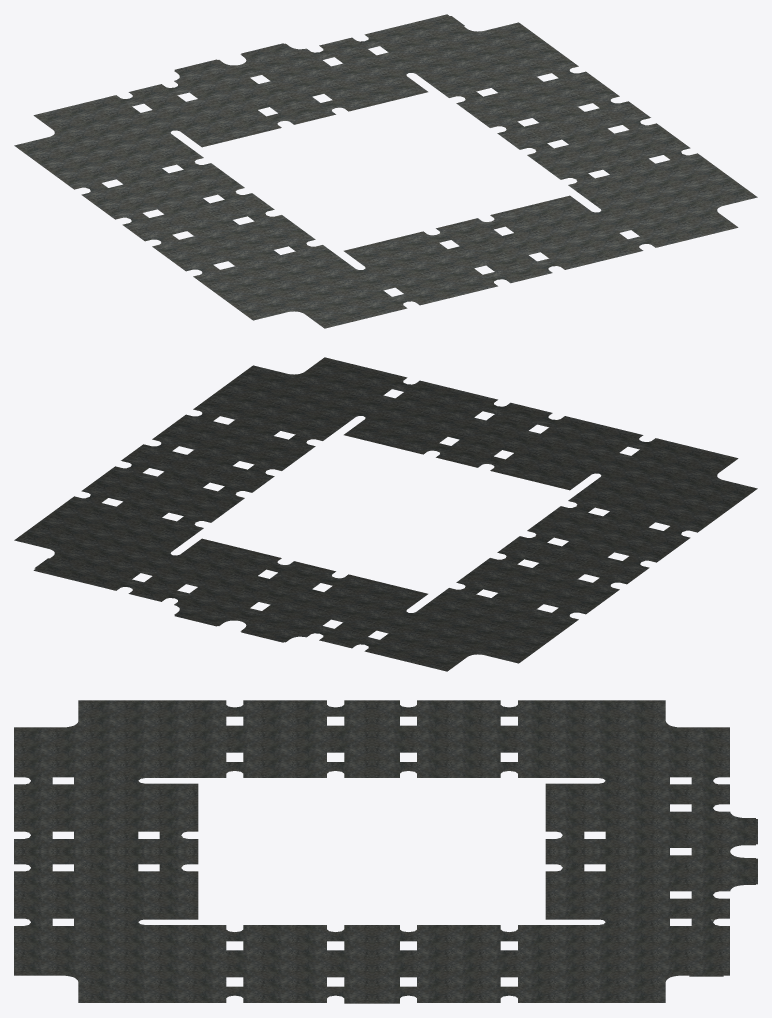
Rendered from floor.fbx.
The picture shows the model from 3 angles, top to bottom: view 1: azimuth 30°, elevation 25°; view 2: azimuth 150°, elevation 25°; view 3: azimuth 270°, elevation 25°; orthographic projection. The views are drawn at different scales.
Parts seen in each view (by area): view 1: floor.001; view 2: floor.001; view 3: floor.001.
Boxes of the visible parts, left/top/right/bottom form: floor.001: left=14, top=14, right=757, bottom=328; floor.001: left=14, top=357, right=757, bottom=671; floor.001: left=14, top=700, right=757, bottom=1003.
Bounding box in the file's own units: 68.34 × 1.25e-05 × 70.78.
Materials: 1 (1 with a texture image).
